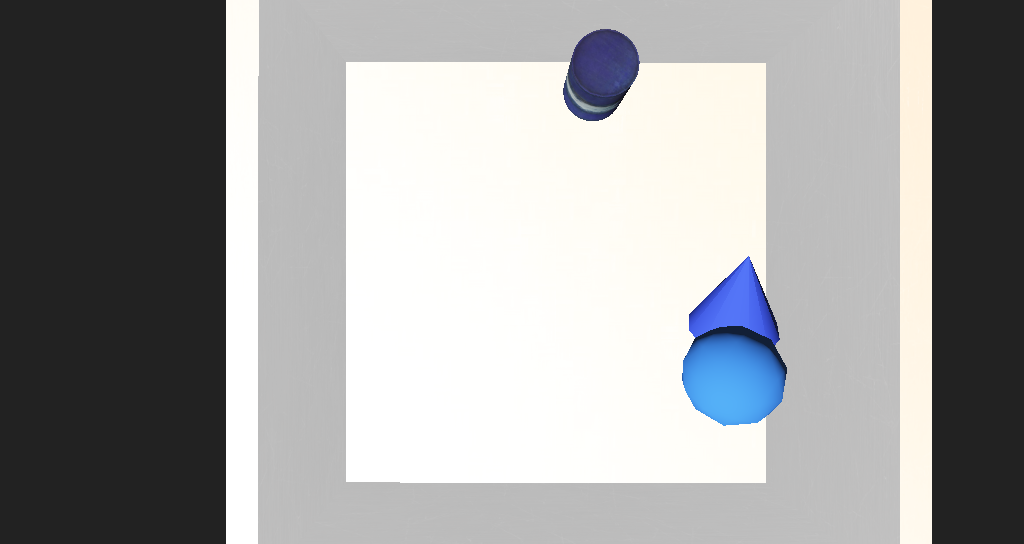cone: (515, 150, 563, 193)
cylinder: (593, 246, 674, 317)
sphere: (586, 291, 653, 339)
